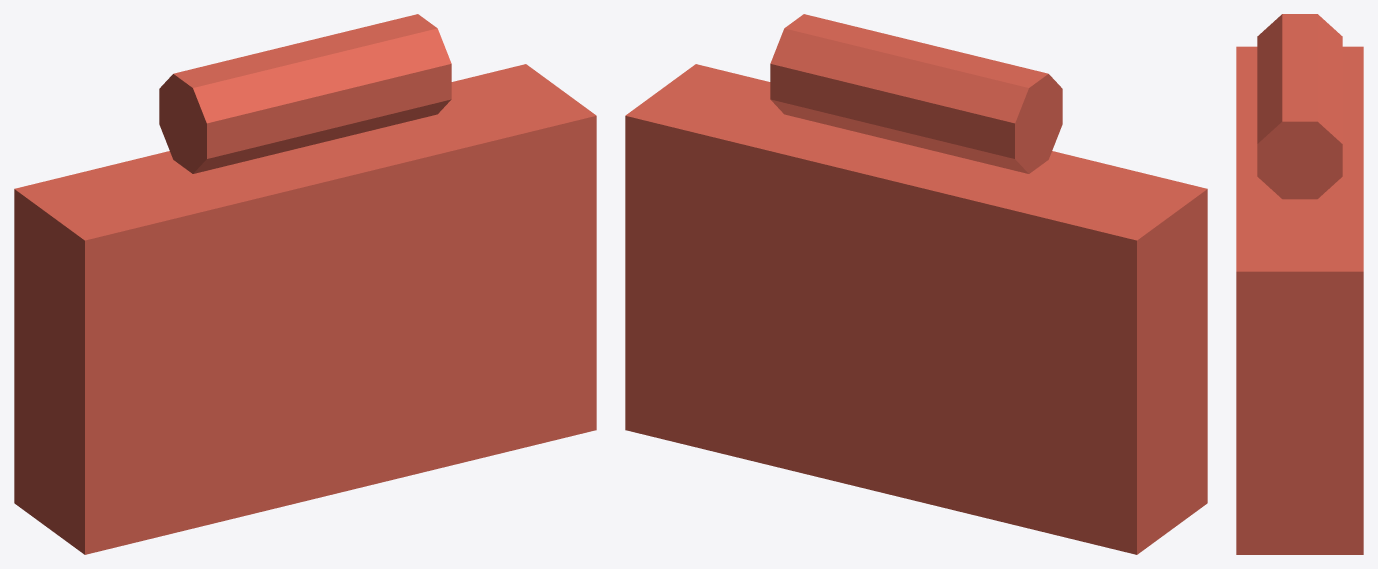
File: briefcase.obj
The picture shows the model from 3 angles, left to right: view 1: azimuth 30°, elevation 25°; view 2: azimuth 150°, elevation 25°; view 3: azimuth 270°, elevation 25°; orthographic projection. The views are drawn at different scales.
Parts seen in each view (by area): view 1: soft-briefcase-body, briefcase-handle; view 2: soft-briefcase-body, briefcase-handle; view 3: soft-briefcase-body, briefcase-handle.
Part boxes in pixels (x1,y1,x2,y2): soft-briefcase-body: (14,64,596,554); briefcase-handle: (159,14,451,173); soft-briefcase-body: (625,64,1207,554); briefcase-handle: (770,14,1062,173); soft-briefcase-body: (1236,46,1363,554); briefcase-handle: (1257,14,1342,199).
Size of the model in its own units: 0.92 by 0.7139 by 0.22.
